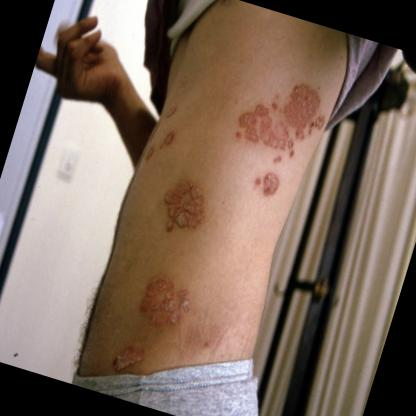Psoriasis: (124, 262, 202, 347), (147, 170, 214, 248), (271, 69, 333, 144), (226, 94, 296, 152), (102, 333, 159, 384), (226, 104, 269, 151), (256, 168, 286, 203), (157, 124, 180, 157), (140, 135, 162, 167)
